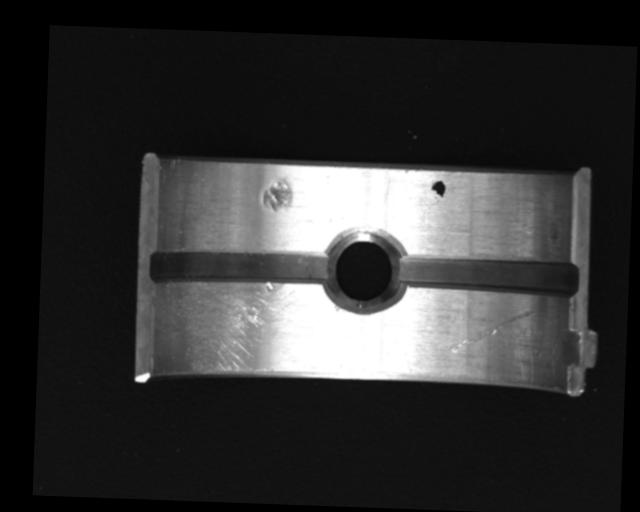blot: (429, 178, 445, 203)
bruise: (261, 173, 293, 214)
gap: (147, 245, 334, 292), (400, 254, 579, 296)
hole: (325, 225, 407, 313)
nick: (449, 306, 535, 358)
scratch: (162, 277, 329, 378)
